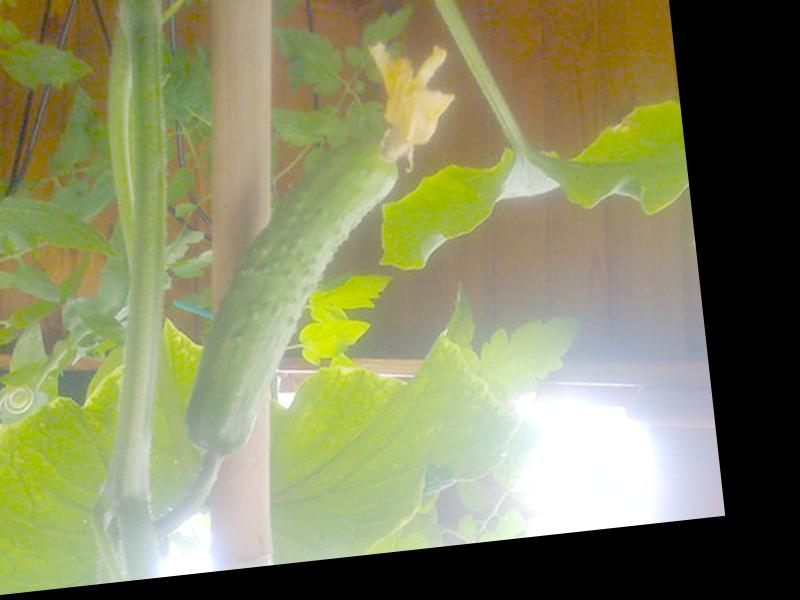Cucumber: (148, 33, 493, 457)
